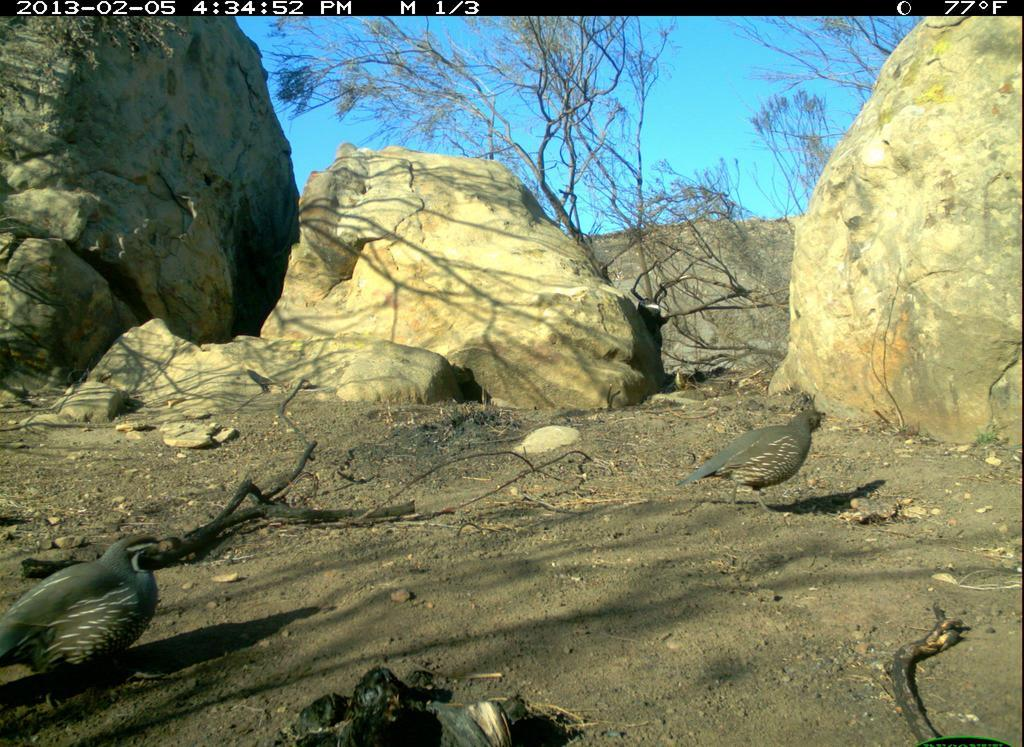bird: (6, 538, 189, 720), (678, 408, 834, 524)
